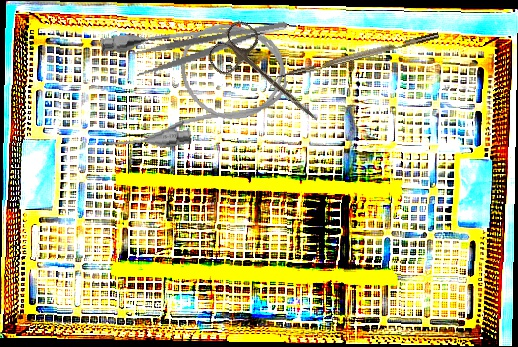Cannula: (87, 13, 294, 156)
Chopper: (266, 32, 442, 89)
Dressing Forceps: (130, 17, 292, 78)
Iris Scissors: (203, 16, 337, 140)
